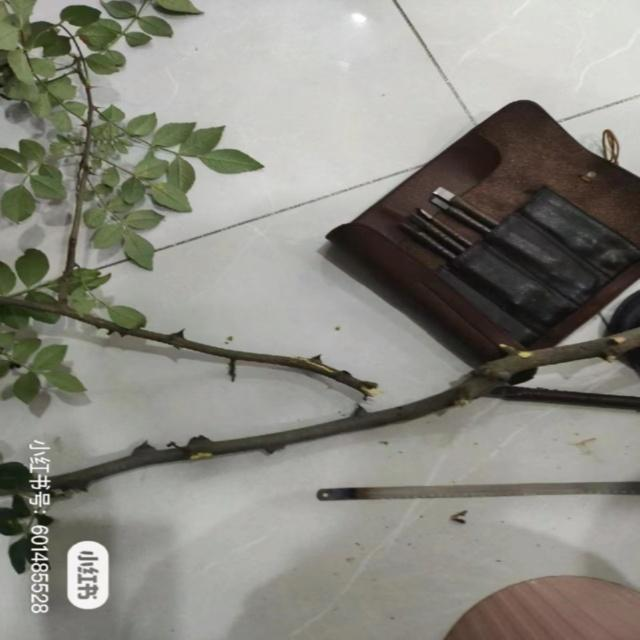branch: (51, 329, 640, 490), (1, 296, 378, 396)
